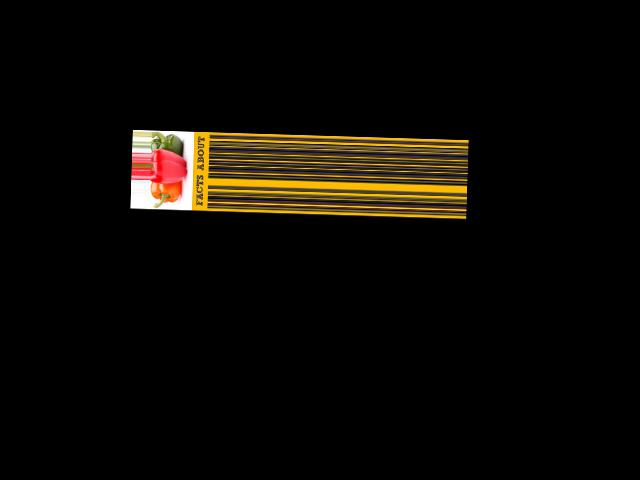bell_pepper: (151, 131, 188, 152)
